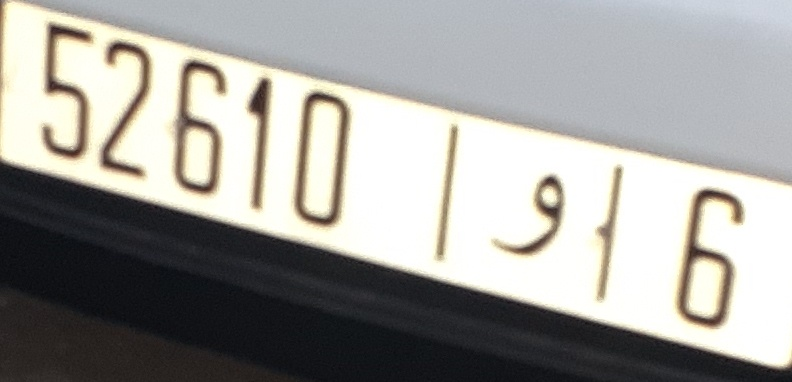0: (291, 86, 356, 233)
1: (241, 73, 279, 216)
2: (93, 37, 156, 182)
5: (41, 18, 93, 164)
6: (671, 185, 748, 332), (166, 60, 228, 198)
waw: (492, 164, 568, 266)
